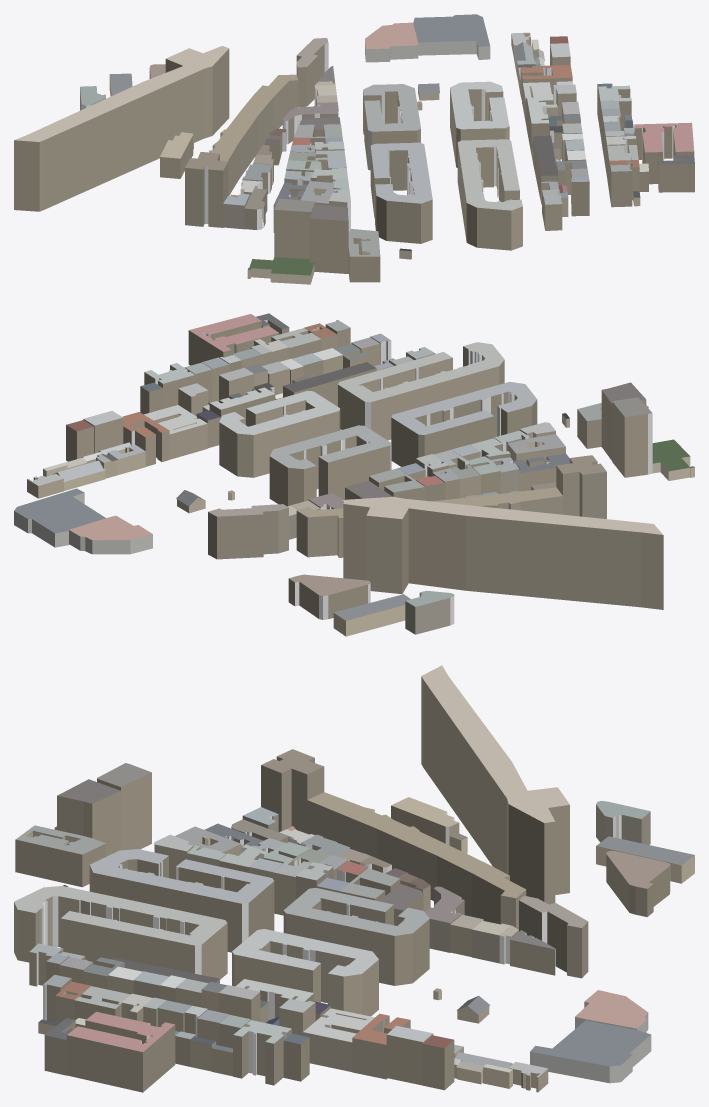
3 views of the same model, one above another, from view 1: azimuth 30°, elevation 25°; view 2: azimuth 150°, elevation 25°; view 3: azimuth 270°, elevation 25° (orthographic). The views are drawn at different scales.
Parts seen in each view (by area): view 1: tuile; view 2: tuile; view 3: tuile.
Boxes of the visible parts, x1=… form: tuile: x1=14, y1=14, x2=694, y2=284; tuile: x1=14, y1=313, x2=694, y2=636; tuile: x1=14, y1=665, x2=694, y2=1092.
Size of the model in its own units: 339 by 40.4 by 283.
